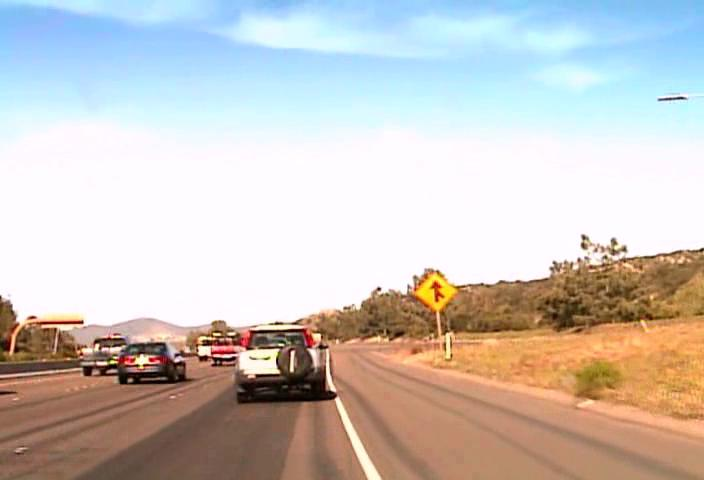merge: (413, 269, 458, 312)
